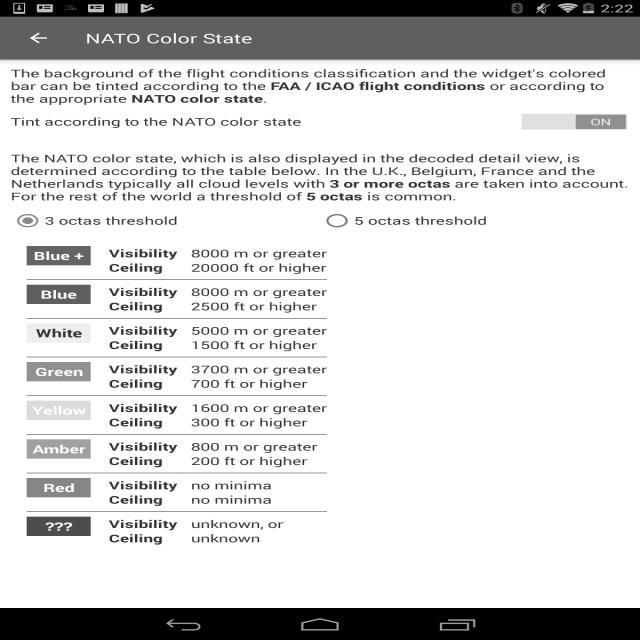ImageButton: (9, 17, 68, 59)
RadioButton: (11, 210, 320, 231), (320, 210, 629, 231)
Switch: (11, 112, 629, 131)
TextView: (11, 151, 629, 203), (11, 66, 629, 106), (85, 29, 253, 47), (191, 260, 327, 275), (191, 323, 327, 338), (191, 376, 327, 391), (191, 246, 327, 260), (191, 285, 327, 299), (191, 299, 327, 313), (191, 338, 327, 352), (191, 362, 327, 376), (191, 401, 327, 415), (191, 415, 327, 429), (191, 439, 317, 454), (191, 454, 317, 468), (191, 517, 283, 531), (191, 531, 283, 545), (26, 323, 90, 343), (26, 439, 90, 459), (26, 246, 90, 265), (26, 285, 90, 304), (26, 362, 90, 381), (26, 401, 90, 420), (26, 478, 90, 497), (26, 517, 90, 536), (191, 492, 272, 507), (191, 478, 272, 492), (109, 260, 177, 275), (109, 323, 177, 338), (109, 376, 177, 391), (109, 439, 177, 454), (109, 492, 177, 507), (109, 246, 177, 260), (109, 285, 177, 299), (109, 299, 177, 313), (109, 338, 177, 352), (109, 362, 177, 376), (109, 401, 177, 415), (109, 415, 177, 429), (109, 454, 177, 468), (109, 478, 177, 492), (109, 517, 177, 531), (109, 531, 177, 545)
